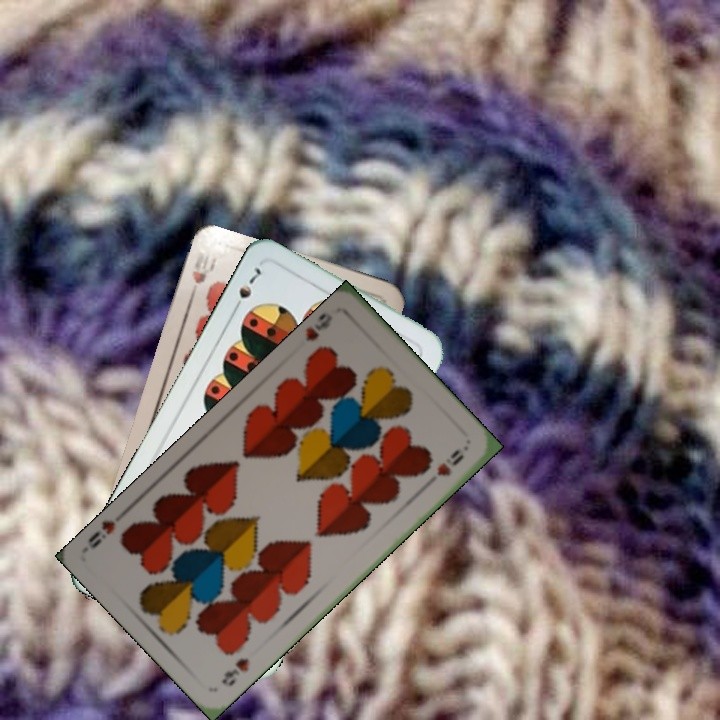H10: (185, 244, 218, 304)
H9: (217, 653, 252, 690), (301, 309, 335, 344)
S7: (228, 263, 268, 315)
